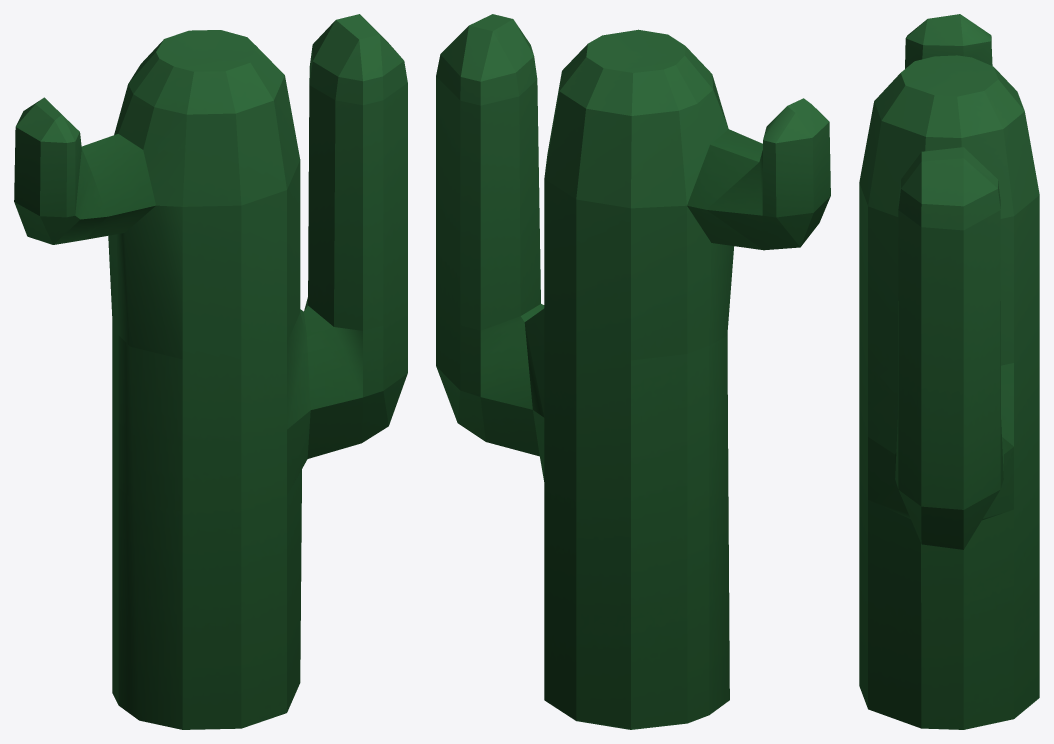
File: Cactus 1.fbx
3 renders of one model, left to right at view 1: azimuth 30°, elevation 25°; view 2: azimuth 150°, elevation 25°; view 3: azimuth 270°, elevation 25°, orthographic. The views are drawn at different scales.
Visible parts, largest first — view 1: Cactus1; view 2: Cactus1; view 3: Cactus1.
Boxes of the visible parts, x1=… form: Cactus1: x1=14, y1=14, x2=407, y2=729; Cactus1: x1=436, y1=14, x2=830, y2=729; Cactus1: x1=859, y1=14, x2=1039, y2=729.
Size of the model in its own units: 9.09 by 14.7 by 3.9.
1 material, 1 textured.
